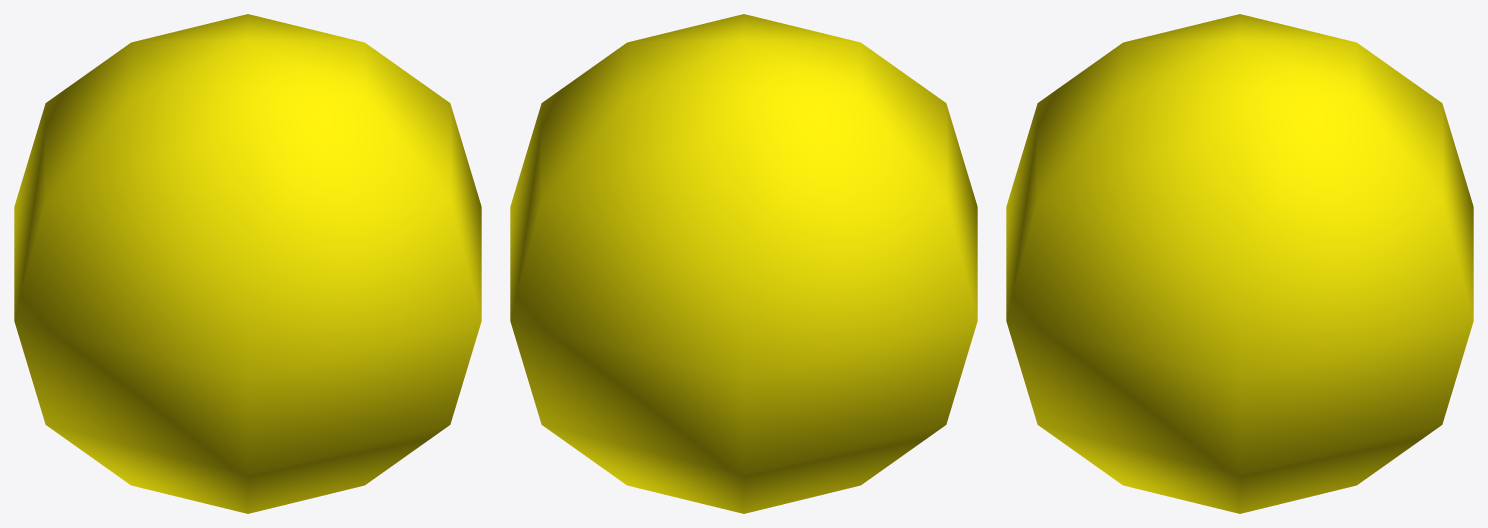
The model's file is MM_GiantGumball_02.fbx.
3 renders of one model, left to right at view 1: azimuth 30°, elevation 25°; view 2: azimuth 150°, elevation 25°; view 3: azimuth 270°, elevation 25°, orthographic.
Visible parts, largest first — view 1: MM_GiantGumball_02; view 2: MM_GiantGumball_02; view 3: MM_GiantGumball_02.
Part boxes in pixels (bbox=[...]): MM_GiantGumball_02: bbox=[14, 14, 481, 513]; MM_GiantGumball_02: bbox=[510, 14, 977, 513]; MM_GiantGumball_02: bbox=[1006, 14, 1473, 513].
Bounding box in the file's own units: 62.64 × 57.07 × 54.24.
